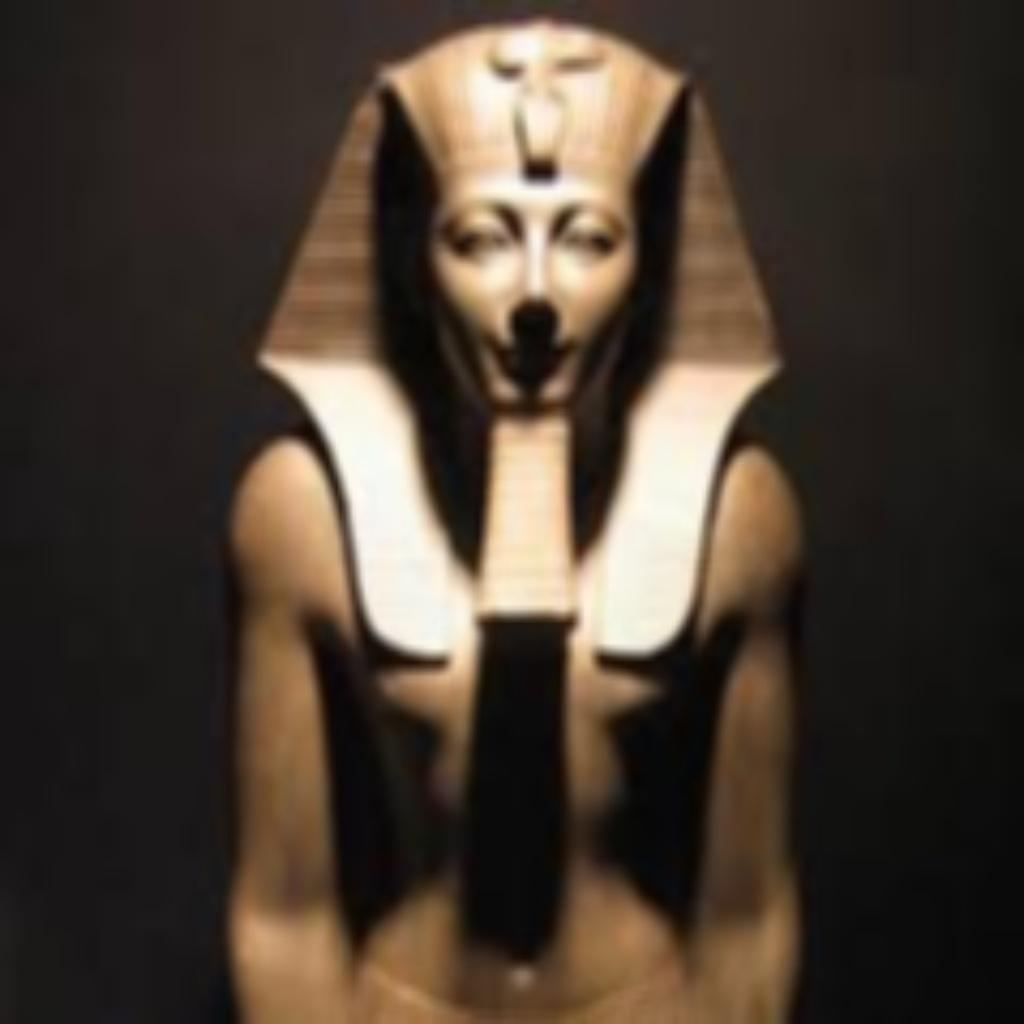King Thutmose III: (214, 10, 822, 1019)
